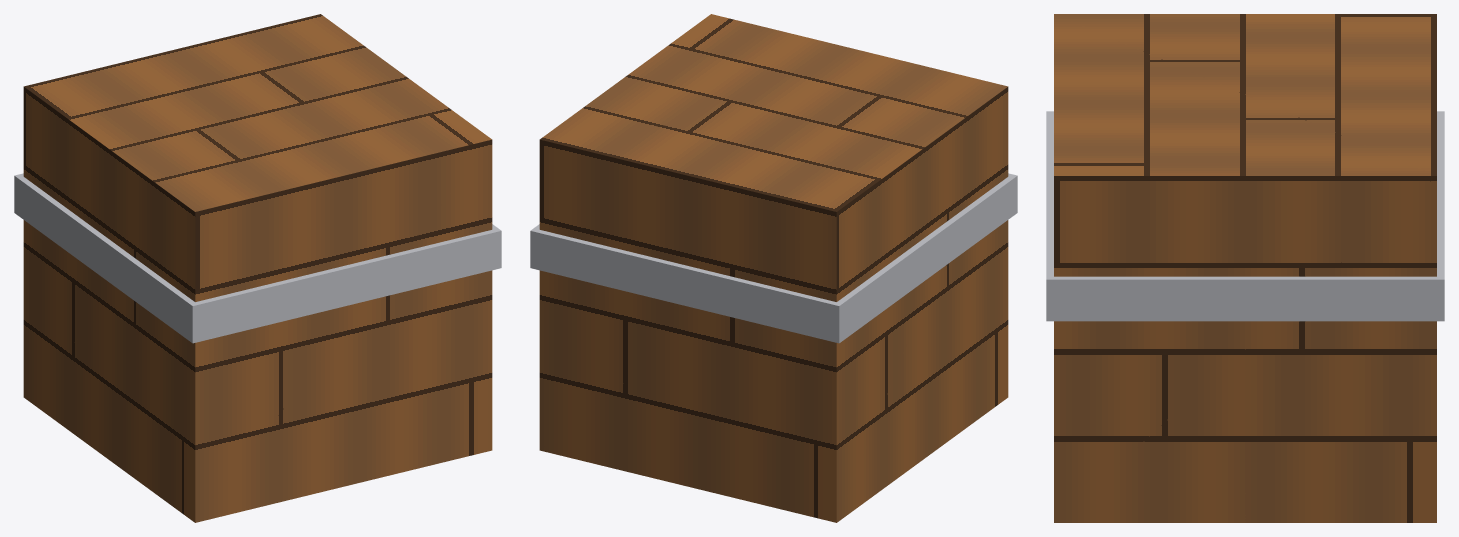
File: crate.glb
3 renders of one model, left to right at view 1: azimuth 30°, elevation 25°; view 2: azimuth 150°, elevation 25°; view 3: azimuth 270°, elevation 25°, orthographic. The views are drawn at different scales.
Visible parts, largest first — view 1: Crate, Band; view 2: Crate, Band; view 3: Crate, Band.
Part boxes in pixels (box(x1,y1,x2,y2)): Crate: box(23, 14, 492, 522); Band: box(14, 173, 501, 343); Crate: box(539, 14, 1008, 522); Band: box(530, 173, 1017, 343); Crate: box(1054, 14, 1436, 522); Band: box(1046, 111, 1444, 321).
Size of the model in its own units: 1.04 by 1 by 1.04.
Materials: 2 (1 with a texture image).
